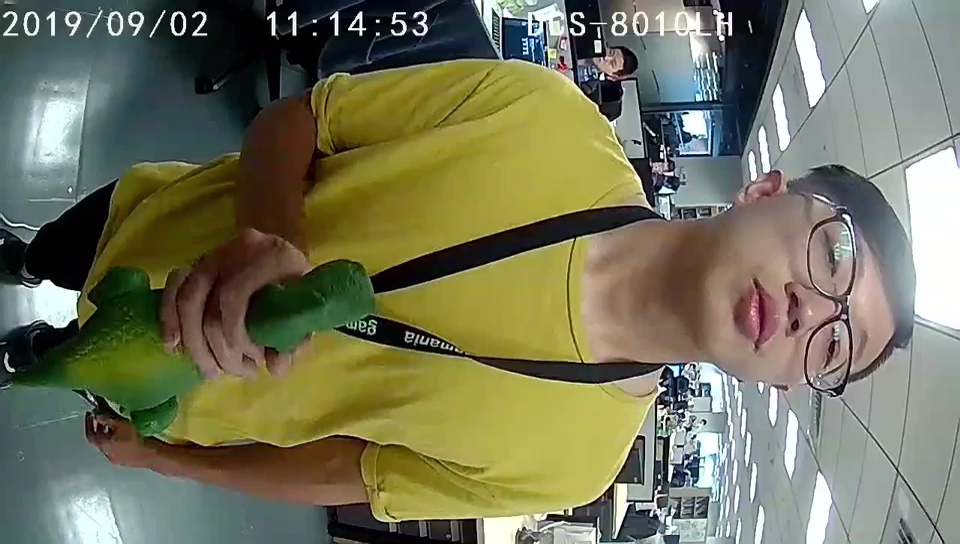rex: (92, 259, 377, 429)
